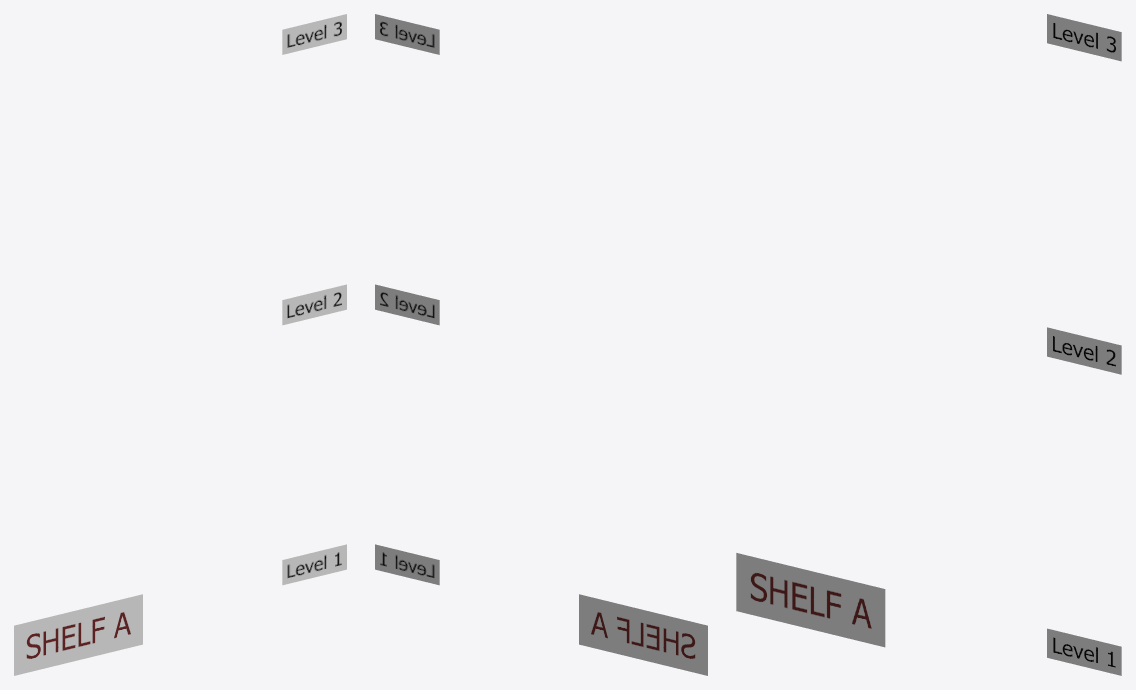
Rendered from shelfALabels.fbx.
3 views of the same model, side by side, from view 1: azimuth 30°, elevation 25°; view 2: azimuth 150°, elevation 25°; view 3: azimuth 330°, elevation 25° (orthographic). The views are drawn at different scales.
Parts seen in each view (by area): view 1: pPlane2, pPlane1, pasted__pPlane1, pasted__pPlane2; view 2: pPlane2, pPlane1, pasted__pPlane1, pasted__pPlane2; view 3: pPlane2, pPlane1, pasted__pPlane1, pasted__pPlane2.
Boxes of the visible parts, x1=… form: pPlane2: x1=14, y1=594, x2=142, y2=675; pPlane1: x1=282, y1=14, x2=346, y2=54; pasted__pPlane1: x1=282, y1=544, x2=346, y2=585; pasted__pPlane2: x1=282, y1=284, x2=346, y2=325; pPlane2: x1=579, y1=594, x2=707, y2=675; pPlane1: x1=375, y1=14, x2=439, y2=54; pasted__pPlane1: x1=375, y1=544, x2=439, y2=585; pasted__pPlane2: x1=375, y1=284, x2=439, y2=325; pPlane2: x1=736, y1=553, x2=885, y2=647; pPlane1: x1=1047, y1=14, x2=1121, y2=61; pasted__pPlane1: x1=1047, y1=628, x2=1121, y2=675; pasted__pPlane2: x1=1047, y1=327, x2=1121, y2=374.
Size of the model in its own units: 74.67 by 125 by 0.
4 materials, 4 textured.
